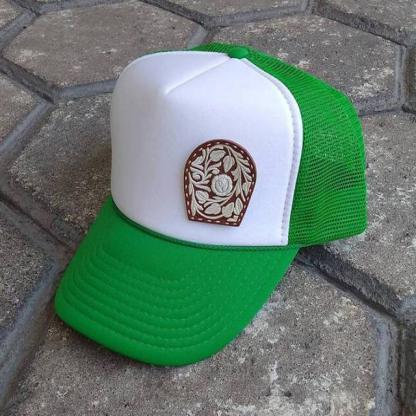cap: (52, 34, 370, 361)
